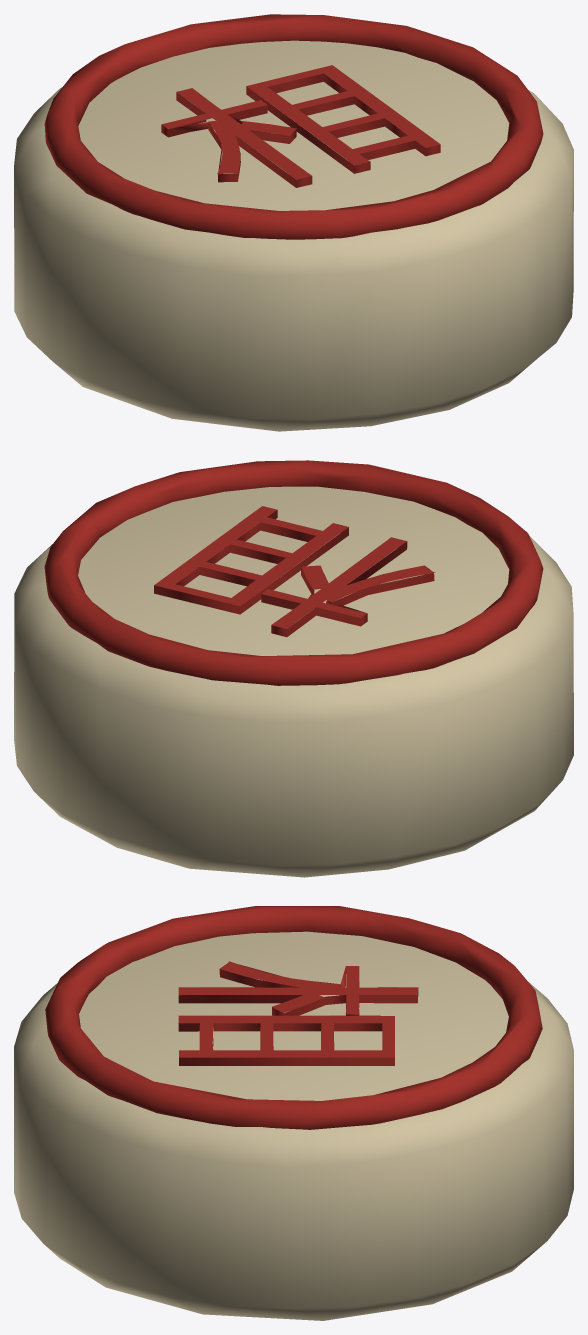
The model's file is quan_do_tuong_voi.glb.
3 renders of one model, top to bottom at view 1: azimuth 30°, elevation 25°; view 2: azimuth 150°, elevation 25°; view 3: azimuth 270°, elevation 25°, orthographic.
Visible parts, largest first — view 1: quan_do_tuong_voi; view 2: quan_do_tuong_voi; view 3: quan_do_tuong_voi.
Boxes of the visible parts, left/top/right/bottom form: quan_do_tuong_voi: left=14, top=14, right=573, bottom=431; quan_do_tuong_voi: left=14, top=460, right=573, bottom=877; quan_do_tuong_voi: left=14, top=906, right=573, bottom=1320.
Bounding box in the file's own units: 0.0366 × 0.0153 × 0.0366.
